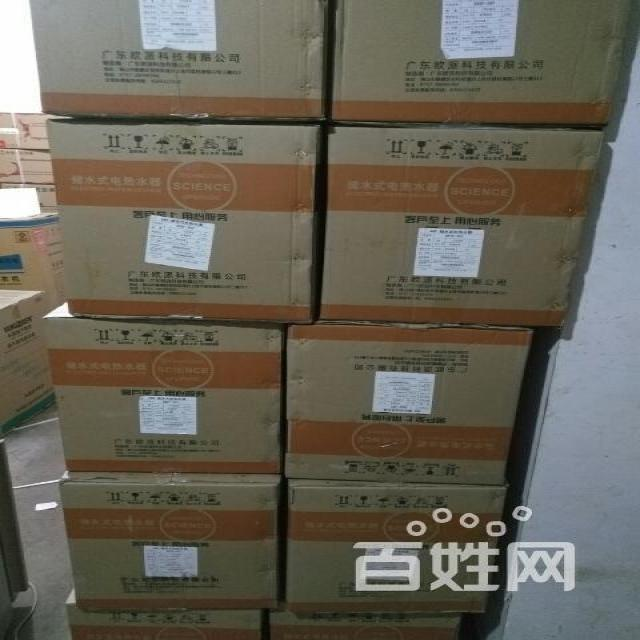box: (321, 127, 604, 329), (45, 120, 320, 323), (44, 302, 283, 474), (285, 324, 535, 484), (329, 0, 635, 127), (28, 0, 323, 119), (285, 476, 507, 617), (59, 472, 281, 611), (64, 587, 261, 640), (0, 288, 56, 442), (0, 213, 68, 317), (271, 615, 459, 640), (0, 112, 71, 149), (0, 149, 53, 184), (0, 182, 57, 214), (0, 189, 41, 219)
